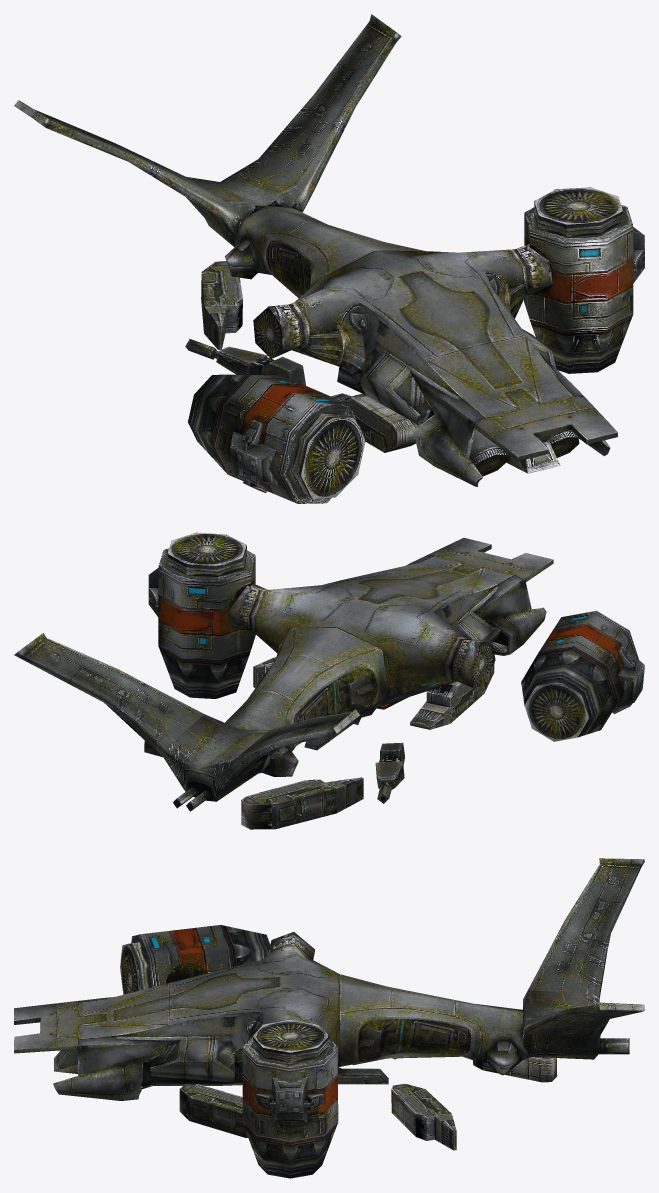
File: Vehicle_Fj01.glb
The picture shows the model from 3 angles, top to bottom: view 1: azimuth 30°, elevation 25°; view 2: azimuth 150°, elevation 25°; view 3: azimuth 270°, elevation 25°; orthographic projection. The views are drawn at different scales.
Visible parts, largest first — view 1: tianwang_fj01; view 2: tianwang_fj01; view 3: tianwang_fj01.
Part boxes in pixels (x1=…): tianwang_fj01: x1=14, y1=14, x2=644, y2=503; tianwang_fj01: x1=14, y1=532, x2=644, y2=829; tianwang_fj01: x1=14, y1=858, x2=644, y2=1178.
Bounding box in the file's own units: 22.58 × 8.9 × 30.85.
1 material, 1 textured.
